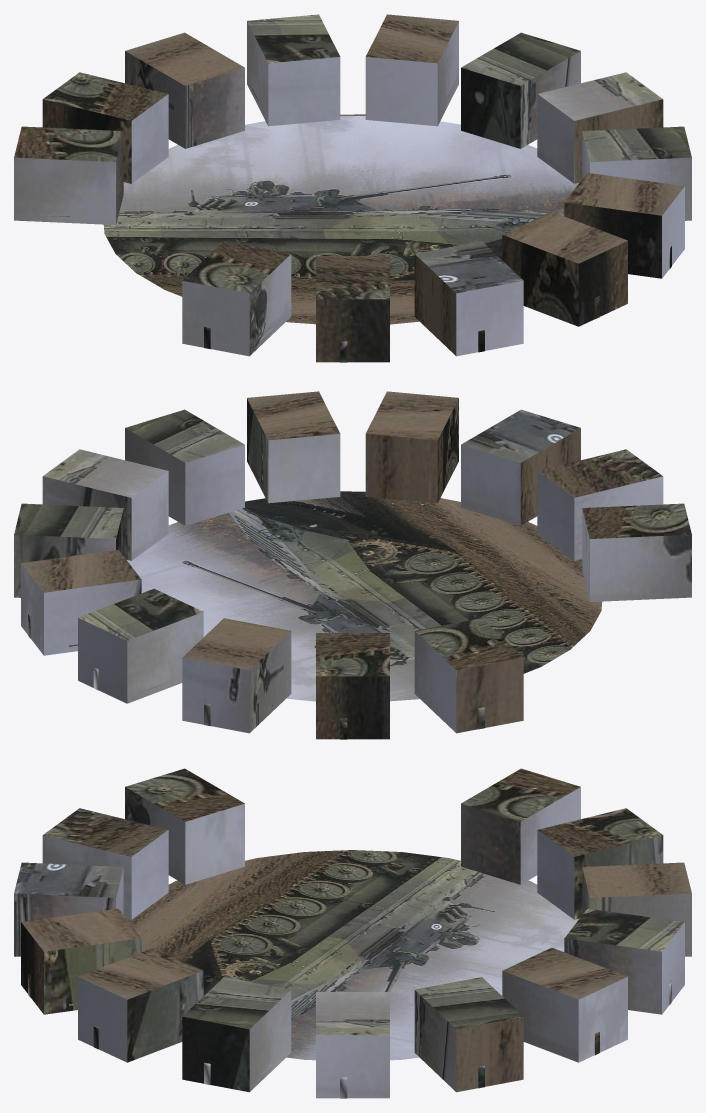
File: CellBlock.glb
3 views of the same model, one above another, from view 1: azimuth 30°, elevation 25°; view 2: azimuth 150°, elevation 25°; view 3: azimuth 270°, elevation 25° (orthographic).
Visible parts, largest first — view 1: Circle.001, BagaArray_Single Cell.011, BagaArray_Single Cell.002, BagaArray_Single Cell, BagaArray_Single Cell.012, BagaArray_Single Cell.004, BagaArray_Single Cell.007, BagaArray_Single Cell.005, BagaArray_Single Cell.006, BagaArray_Single Cell.010, BagaArray_Single Cell.013, BagaArray_Single Cell.003 (+2 smaller); view 2: Circle.001, BagaArray_Single Cell.005, BagaArray_Single Cell, BagaArray_Single Cell.002, BagaArray_Single Cell.004, BagaArray_Single Cell.009, BagaArray_Single Cell.012, BagaArray_Single Cell.010, BagaArray_Single Cell.011, BagaArray_Single Cell.006, BagaArray_Single Cell.003, BagaArray_Single Cell.013 (+2 smaller); view 3: Circle.001, BagaArray_Single Cell.006, BagaArray_Single Cell.010, BagaArray_Single Cell.007, BagaArray_Single Cell.009, BagaArray_Single Cell, BagaArray_Single Cell.002, BagaArray_Single Cell.011, BagaArray_Single Cell.005, BagaArray_Single Cell.008, BagaArray_Single Cell.003, BagaArray_Single Cell.013 (+2 smaller).
Part boxes in pixels (left/top/right/bottom): Circle.001: left=103, top=114, right=578, bottom=324; BagaArray_Single Cell.011: left=502, top=211, right=627, bottom=326; BagaArray_Single Cell.002: left=14, top=126, right=123, bottom=224; BagaArray_Single Cell: left=182, top=241, right=291, bottom=356; BagaArray_Single Cell.012: left=414, top=241, right=523, bottom=356; BagaArray_Single Cell.004: left=125, top=32, right=244, bottom=148; BagaArray_Single Cell.007: left=461, top=32, right=580, bottom=148; BagaArray_Single Cell.005: left=247, top=14, right=340, bottom=126; BagaArray_Single Cell.006: left=365, top=14, right=458, bottom=126; BagaArray_Single Cell.010: left=564, top=172, right=684, bottom=278; BagaArray_Single Cell.013: left=316, top=256, right=389, bottom=362; BagaArray_Single Cell.003: left=42, top=72, right=168, bottom=183; Circle.001: left=127, top=491, right=602, bottom=701; BagaArray_Single Cell.005: left=78, top=588, right=203, bottom=703; BagaArray_Single Cell: left=582, top=503, right=691, bottom=601; BagaArray_Single Cell.002: left=414, top=618, right=523, bottom=733; BagaArray_Single Cell.004: left=182, top=618, right=291, bottom=733; BagaArray_Single Cell.009: left=125, top=409, right=244, bottom=525; BagaArray_Single Cell.012: left=461, top=409, right=580, bottom=525; BagaArray_Single Cell.010: left=247, top=391, right=340, bottom=503; BagaArray_Single Cell.011: left=365, top=391, right=458, bottom=503; BagaArray_Single Cell.006: left=21, top=549, right=141, bottom=655; BagaArray_Single Cell.003: left=316, top=633, right=389, bottom=739; BagaArray_Single Cell.013: left=537, top=449, right=663, bottom=560; Circle.001: left=127, top=850, right=578, bottom=1060; BagaArray_Single Cell.006: left=502, top=947, right=627, bottom=1062; BagaArray_Single Cell.010: left=78, top=947, right=203, bottom=1062; BagaArray_Single Cell.007: left=414, top=977, right=523, bottom=1092; BagaArray_Single Cell.009: left=182, top=977, right=291, bottom=1092; BagaArray_Single Cell: left=125, top=768, right=244, bottom=884; BagaArray_Single Cell.002: left=461, top=768, right=580, bottom=884; BagaArray_Single Cell.011: left=21, top=908, right=141, bottom=1014; BagaArray_Single Cell.005: left=564, top=908, right=684, bottom=1014; BagaArray_Single Cell.008: left=316, top=992, right=389, bottom=1098; BagaArray_Single Cell.003: left=537, top=808, right=663, bottom=919; BagaArray_Single Cell.013: left=42, top=808, right=168, bottom=919.
Bounding box in the file's own units: 35.38 × 3.9 × 37.98.
2 materials, 2 textured.
